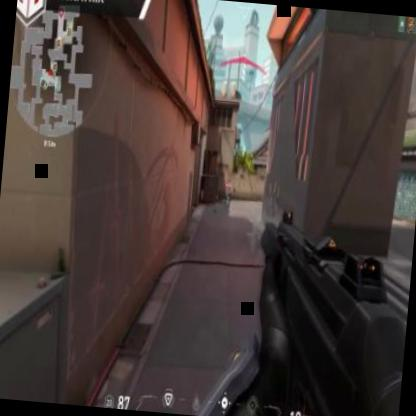enemy: (223, 177, 234, 208)
enemy_head: (228, 178, 232, 186)
